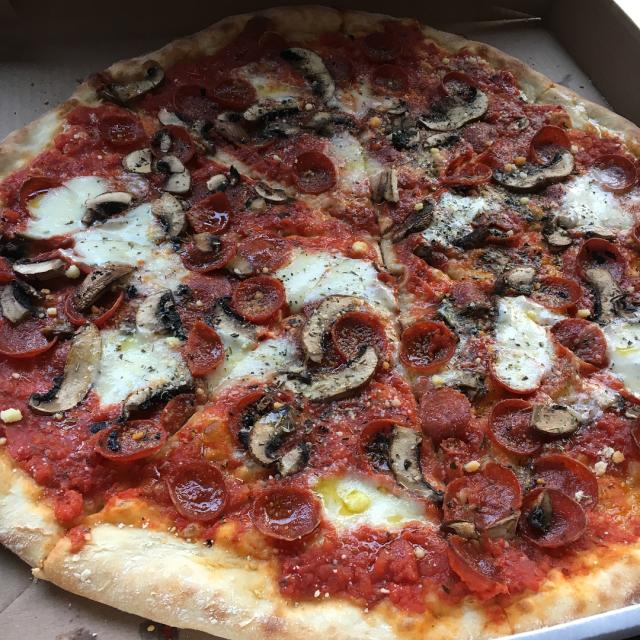mushrooms: (361, 163, 436, 275), (24, 320, 103, 416), (239, 402, 308, 476), (435, 298, 489, 391), (299, 288, 363, 360), (302, 353, 381, 409), (499, 148, 584, 196), (382, 419, 432, 500), (285, 39, 346, 102), (97, 61, 171, 106), (238, 88, 297, 142), (428, 89, 494, 135), (117, 374, 196, 412), (372, 98, 423, 154), (584, 260, 628, 320), (139, 284, 187, 338), (161, 106, 219, 150), (447, 509, 515, 544), (80, 186, 139, 226), (1, 274, 42, 328), (73, 256, 122, 300), (152, 190, 192, 243), (524, 403, 592, 433), (536, 204, 574, 250), (304, 106, 358, 138), (16, 250, 68, 283), (494, 257, 534, 297), (153, 146, 191, 188), (248, 175, 284, 212), (122, 144, 153, 177), (208, 163, 236, 192)
pepperoni: (419, 387, 480, 487), (445, 461, 521, 529), (252, 477, 324, 547), (515, 478, 585, 547), (165, 458, 233, 528), (534, 448, 600, 512), (479, 391, 542, 455), (548, 311, 608, 374), (448, 527, 500, 598), (334, 302, 388, 368), (394, 314, 454, 373), (100, 414, 164, 469), (226, 274, 290, 329), (178, 316, 228, 378), (61, 282, 126, 328), (577, 230, 627, 286), (285, 148, 339, 199), (590, 145, 640, 197), (178, 226, 233, 272), (530, 116, 580, 166), (17, 169, 64, 217), (525, 271, 582, 310), (192, 191, 234, 240), (1, 317, 55, 355), (362, 22, 410, 64), (441, 152, 492, 188), (172, 79, 216, 118), (366, 60, 406, 98), (95, 112, 139, 146), (437, 70, 481, 104), (217, 78, 262, 111)
pizza: (0, 7, 640, 640)
